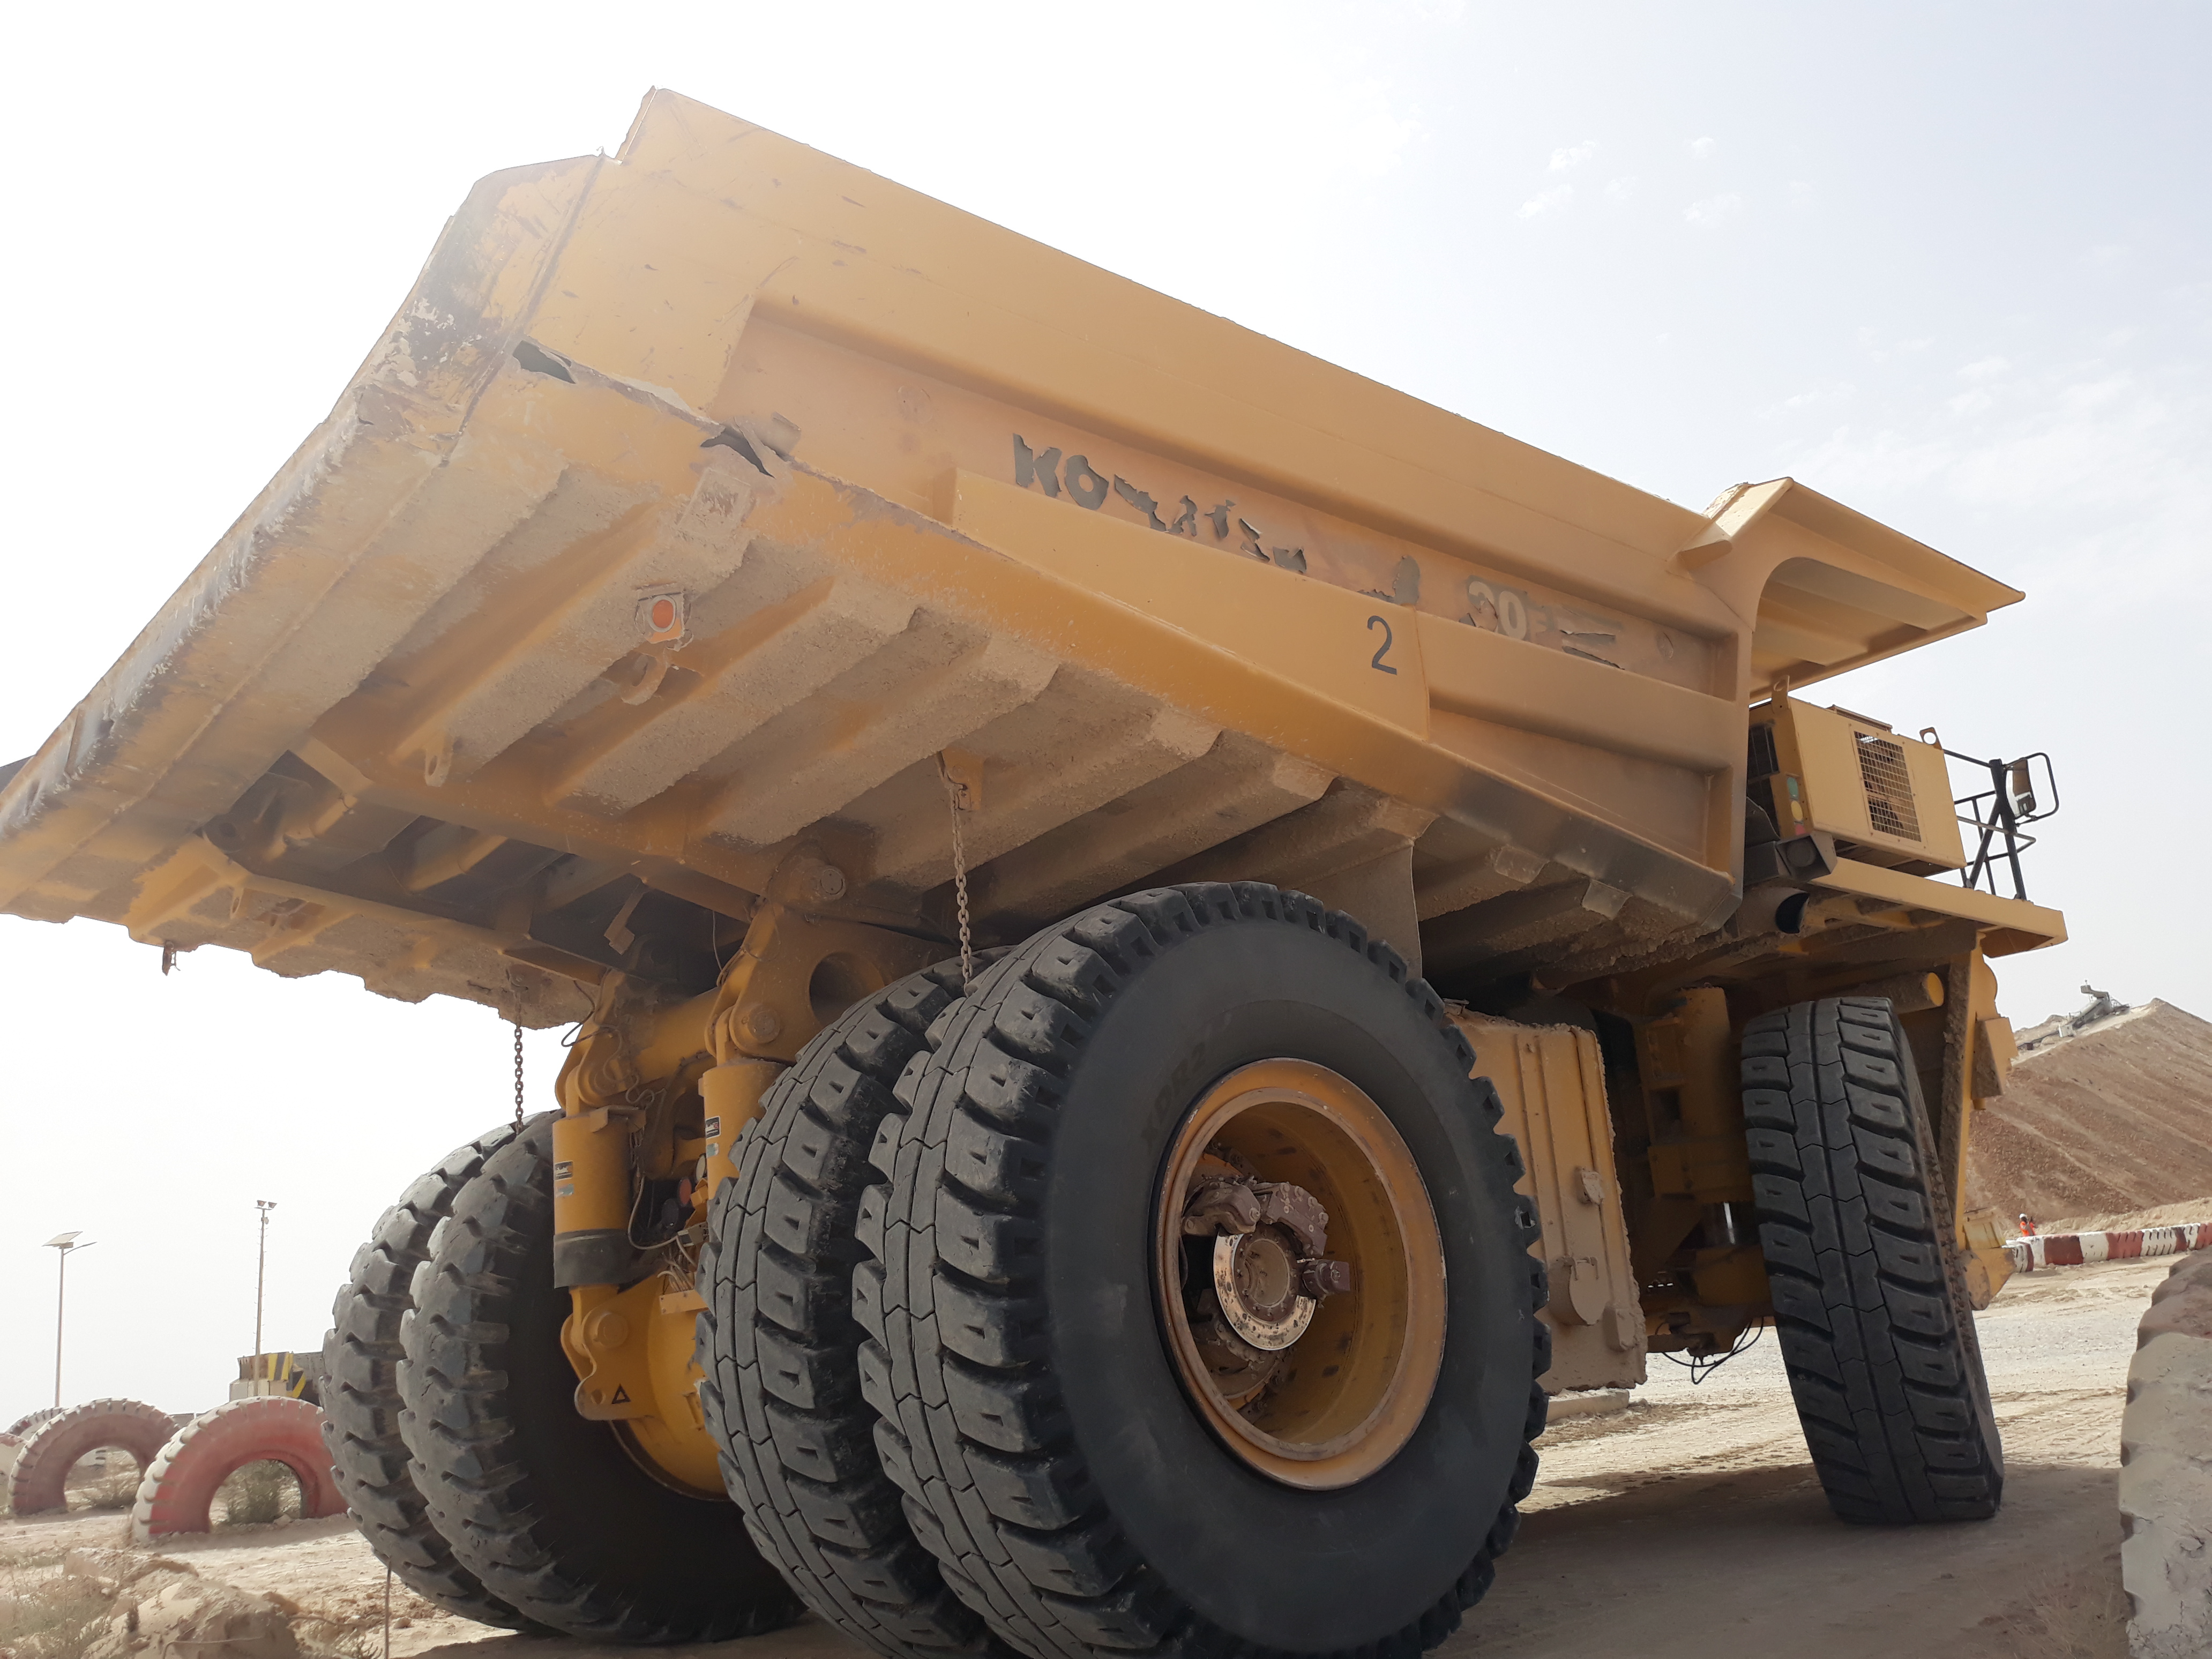camion: (16, 54, 2054, 1636)
